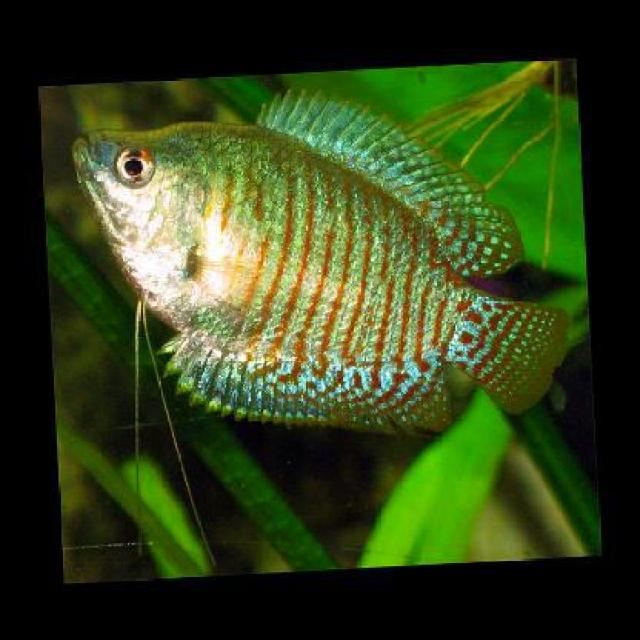Gourami: (69, 85, 577, 426)
